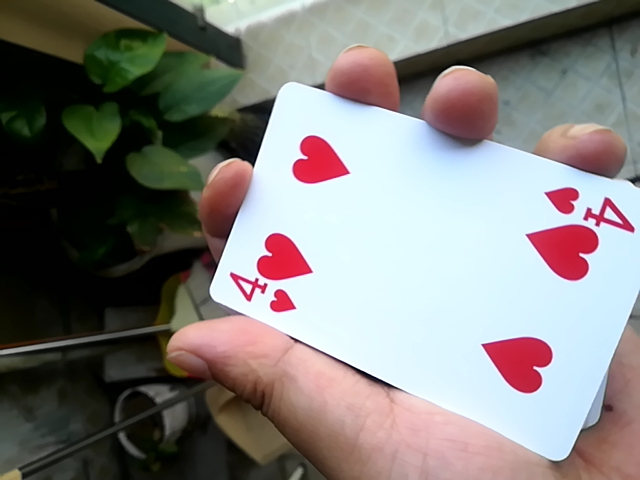hx 4: (193, 78, 635, 460)
